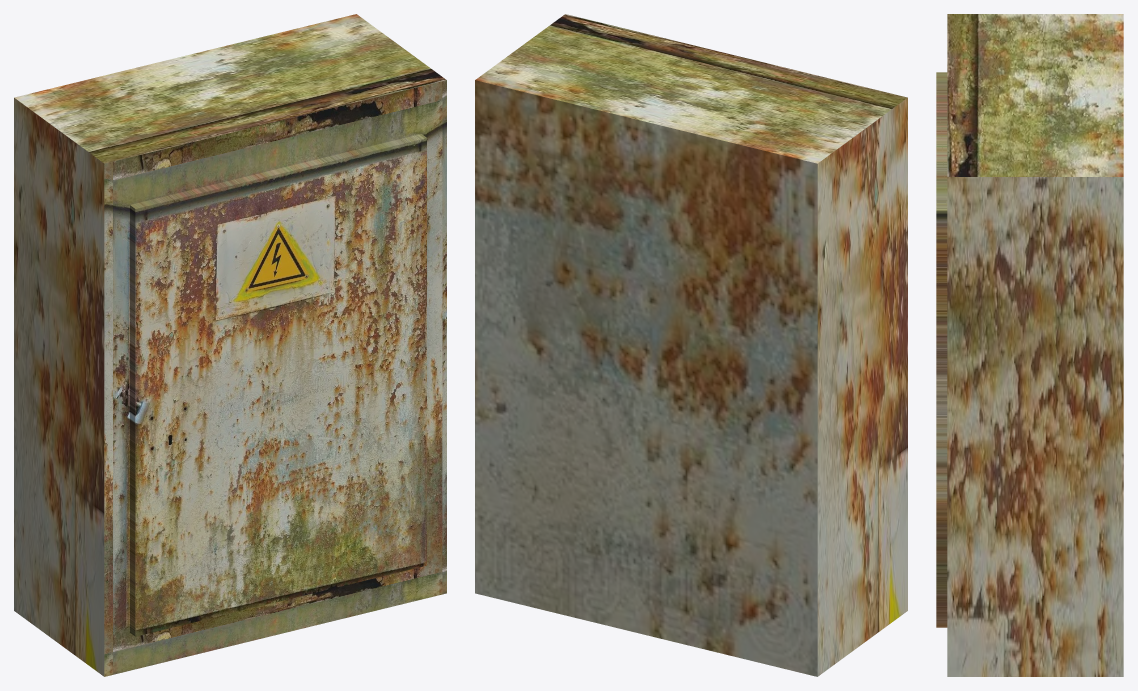
The model's file is PowerBox.fbx.
3 views of the same model, side by side, from view 1: azimuth 30°, elevation 25°; view 2: azimuth 150°, elevation 25°; view 3: azimuth 270°, elevation 25° (orthographic). The views are drawn at different scales.
Visible parts, largest first — view 1: Cube; view 2: Cube; view 3: Cube.
Boxes of the visible parts, x1,y1,x2,y2 form: Cube: [14, 14, 446, 676]; Cube: [475, 14, 907, 676]; Cube: [936, 14, 1123, 676].
Bounding box in the file's own units: 242 × 346 × 117.
